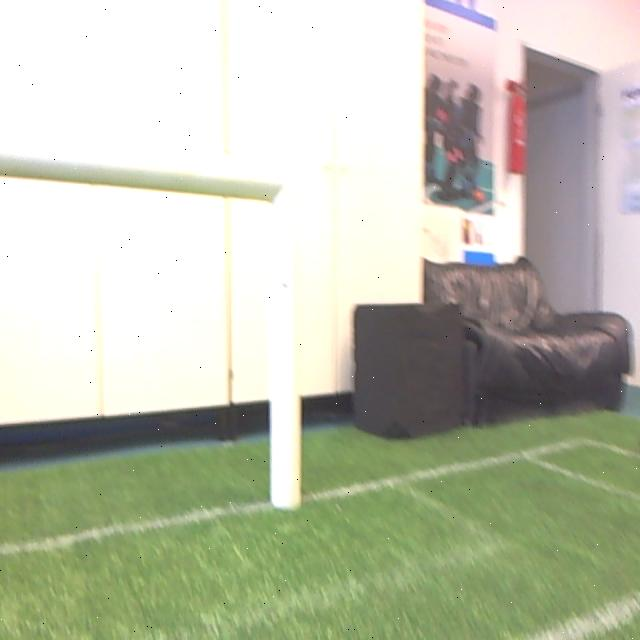goalpost: (268, 172, 302, 506)
